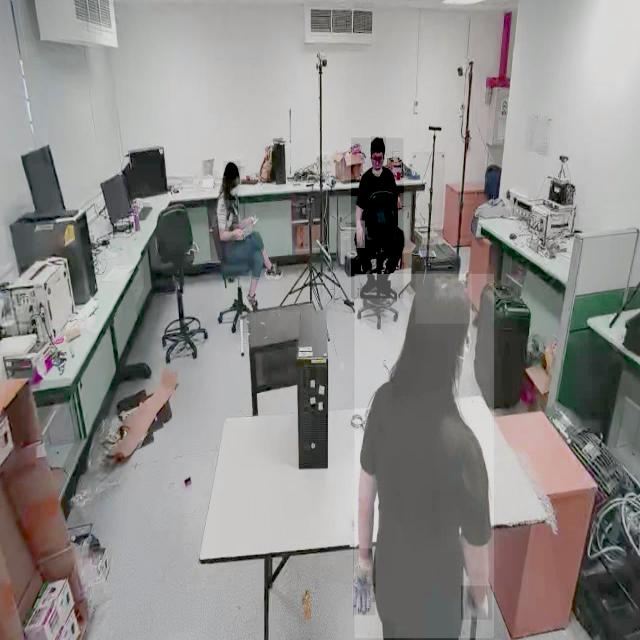face_mask: (226, 176, 240, 200)
face_nomask: (372, 152, 384, 170)
hand_glove: (352, 548, 376, 616), (460, 586, 492, 620)
hand_noglove: (356, 220, 365, 249), (245, 210, 259, 228), (233, 224, 247, 240)
head_nohelmet: (415, 271, 472, 325), (223, 161, 241, 177), (370, 136, 386, 152)
person: (354, 274, 494, 639), (214, 162, 276, 314), (351, 138, 404, 298)
shoes: (359, 274, 378, 300), (243, 289, 261, 316), (264, 260, 284, 284)
